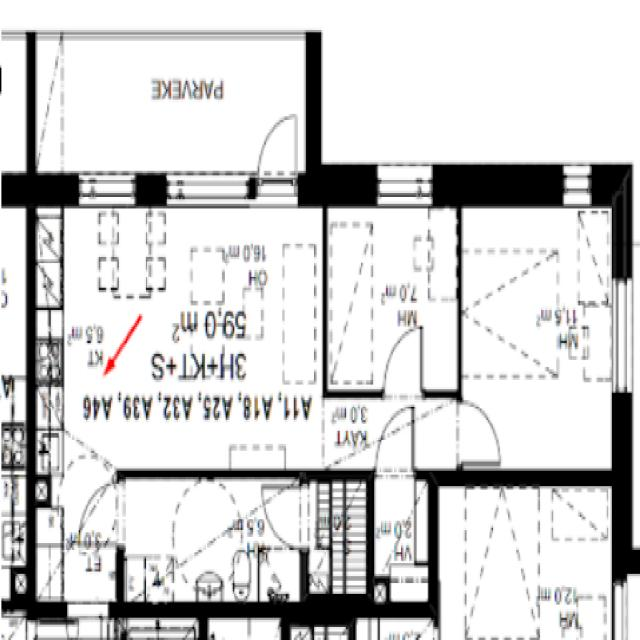door: (256, 105, 298, 207), (261, 484, 308, 548), (78, 483, 123, 545), (457, 401, 500, 464), (376, 408, 414, 478), (384, 328, 422, 397)
